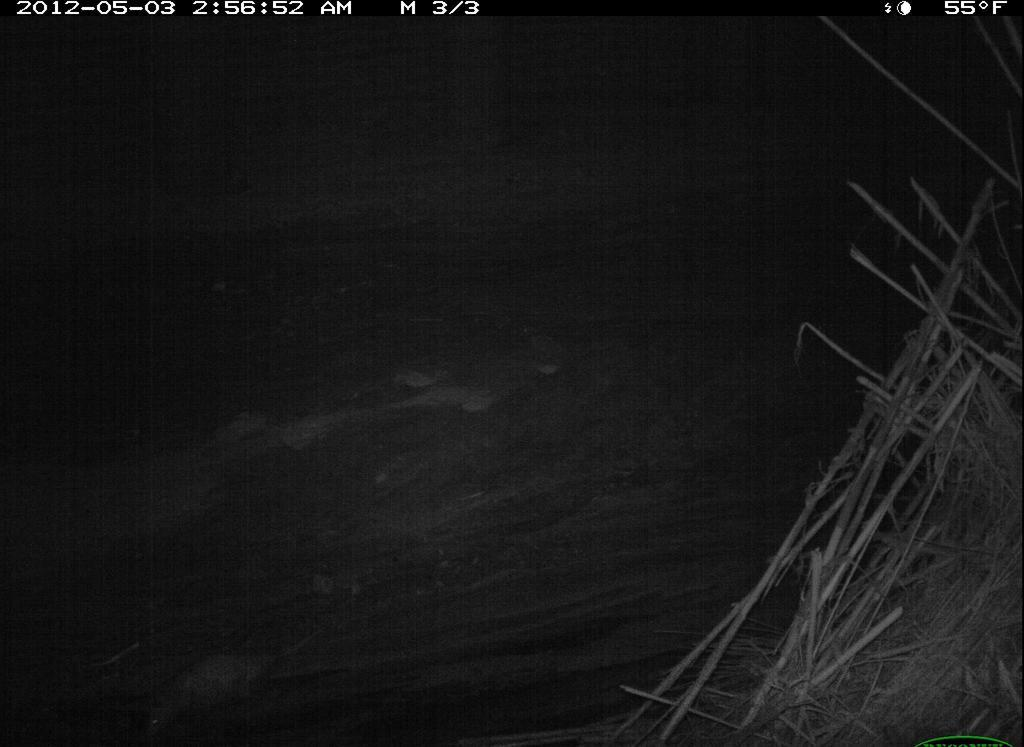opossum: (132, 614, 332, 744)
